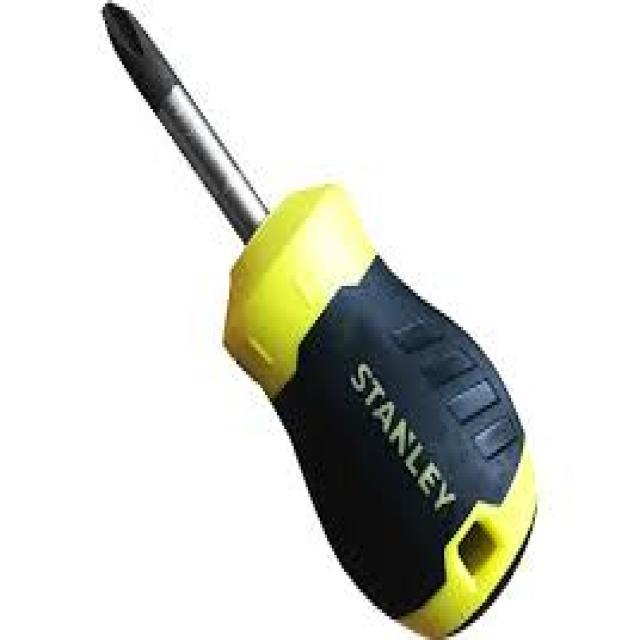screwdriver: (95, 0, 538, 640)
